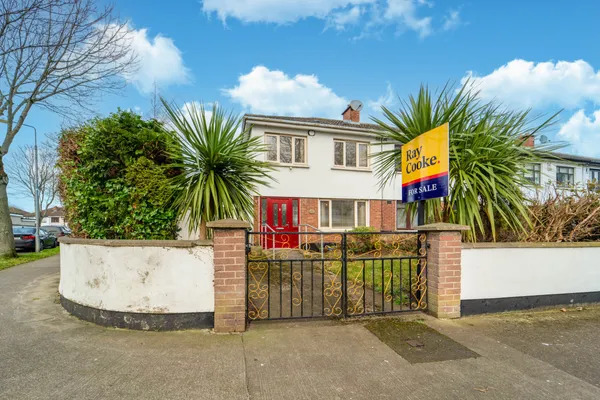property sign: (393, 116, 460, 206)
